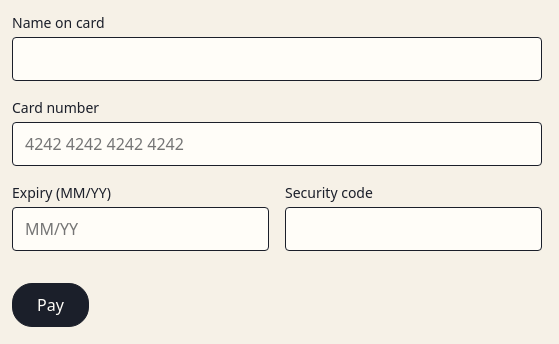
CardForm input helpers › backspace on the slash removes it and the last month digit
This screenshot has width=559, height=344.
Type "12" into the field labelled "Expiry (MM/YY)".
click(140, 229); type("12")  # box [12, 207, 269, 251]
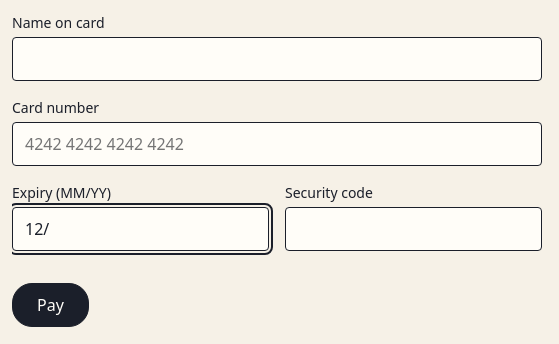
Now the field labelled "Expiry (MM/YY)" holds "12/", box [12, 207, 269, 251]
Press Backspace
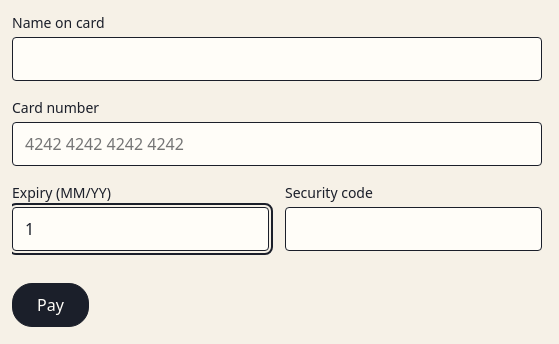
Now the field labelled "Expiry (MM/YY)" holds "1", box [12, 207, 269, 251]
